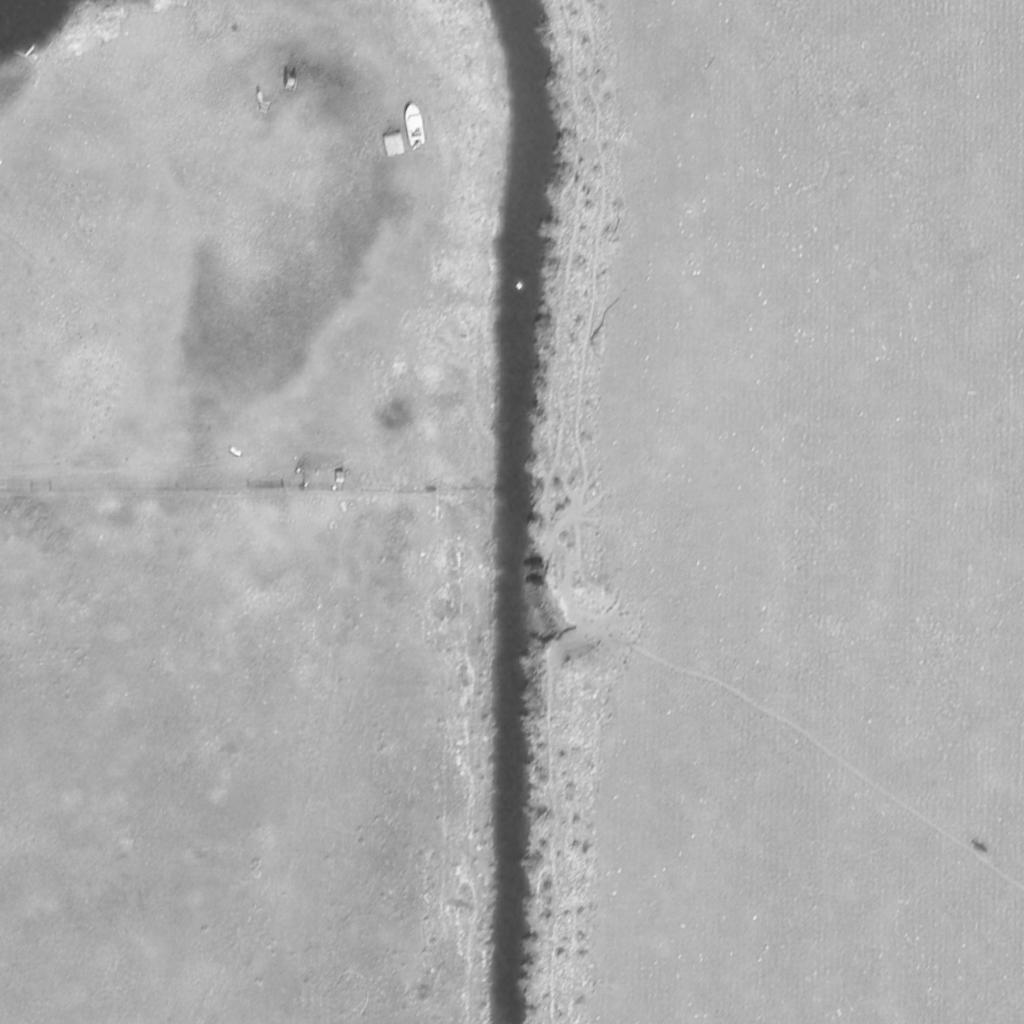vehicle: (405, 102, 427, 150)
